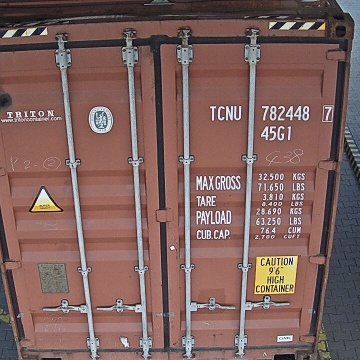serial_id: (210, 105, 333, 120)
